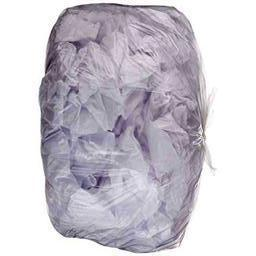plastic: (40, 5, 208, 253)
